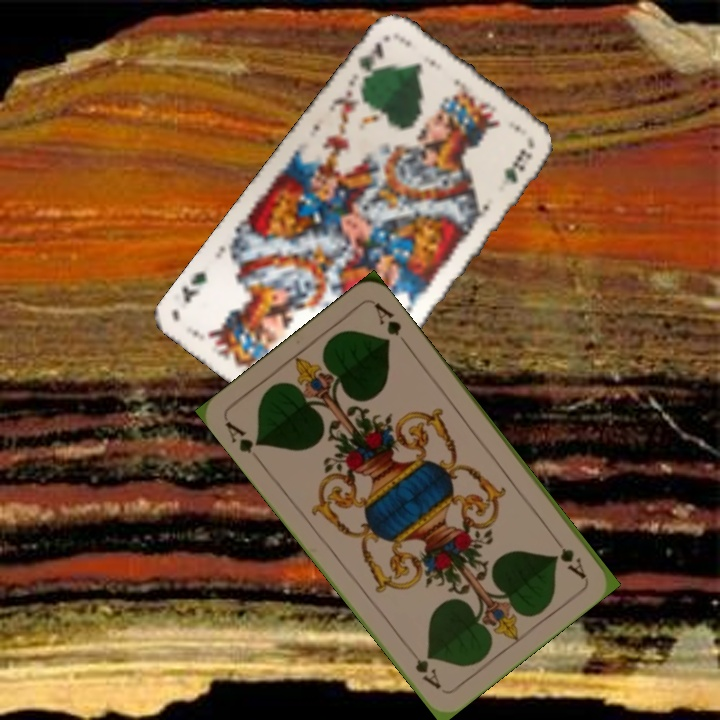GA: (547, 530, 589, 582), (221, 417, 264, 457)
GK: (354, 37, 387, 88)
